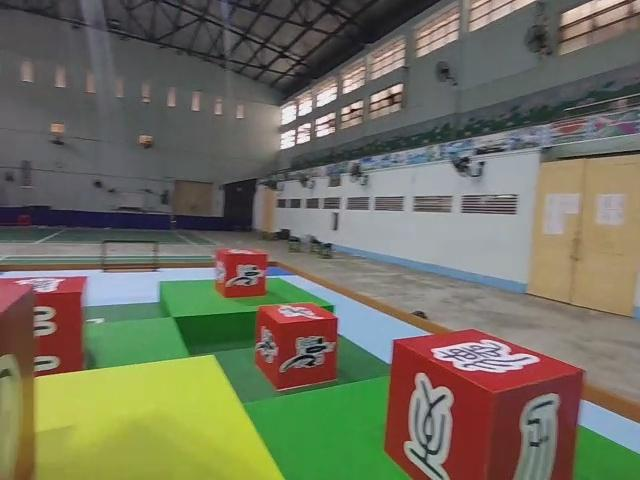R1: (253, 301, 341, 391), (212, 246, 269, 300)
R2 Fake: (381, 326, 586, 480)
